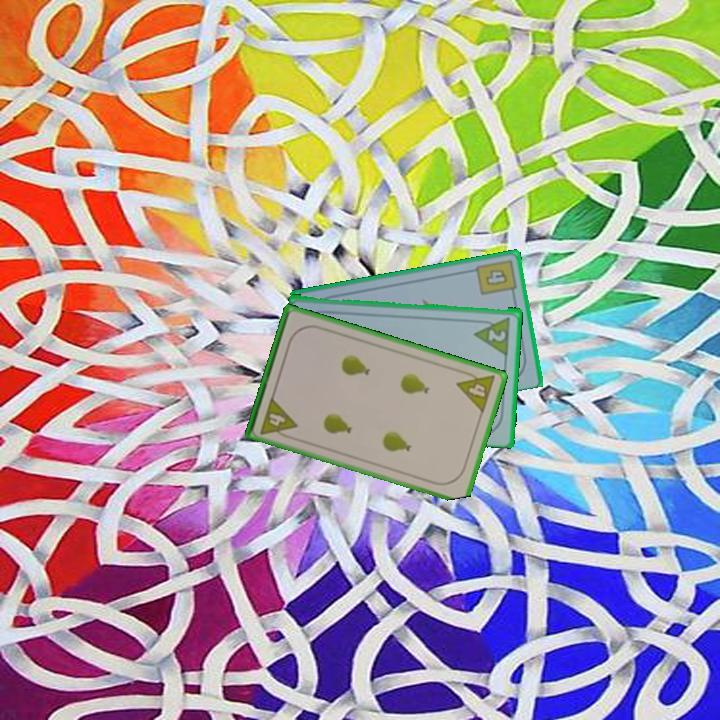2p: (471, 313, 513, 356)
4b: (473, 255, 519, 299)
4p: (453, 366, 498, 416), (257, 393, 300, 442)
